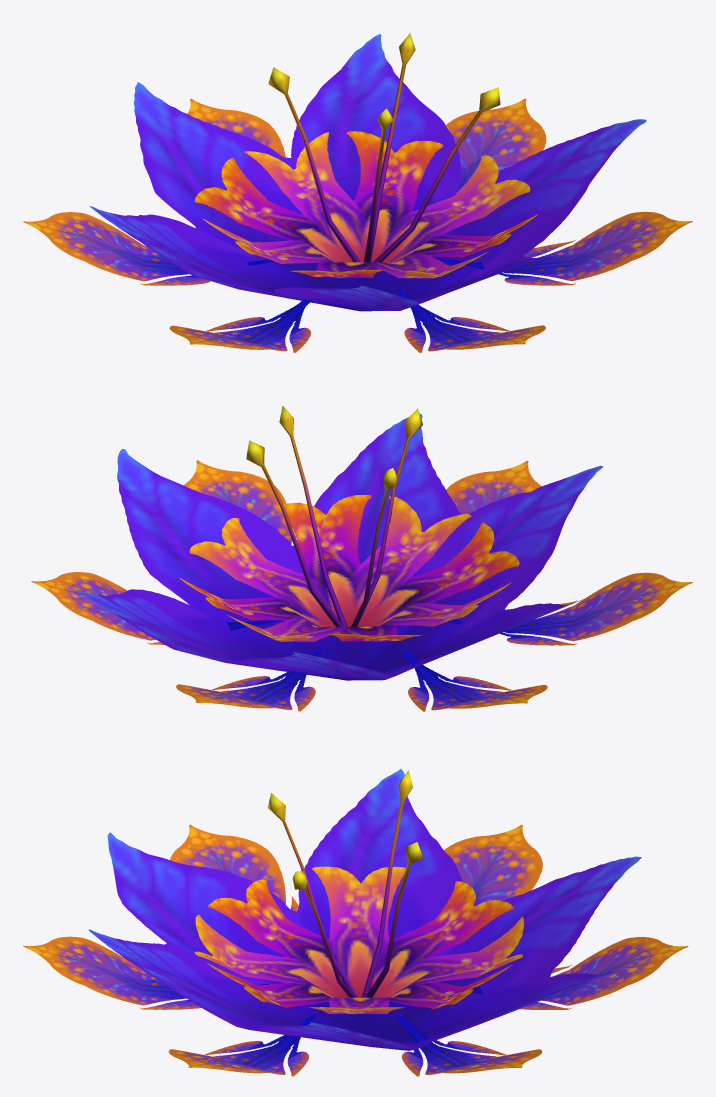
The model's file is Blue_Bush_04b.FBX.
The picture shows the model from 3 angles, top to bottom: view 1: azimuth 30°, elevation 25°; view 2: azimuth 150°, elevation 25°; view 3: azimuth 270°, elevation 25°; orthographic projection.
Visible parts, largest first — view 1: Blue_Bush_04b; view 2: Blue_Bush_04b; view 3: Blue_Bush_04b.
Boxes of the visible parts, <box> form: Blue_Bush_04b: <box>23,33,692,352</box>; Blue_Bush_04b: <box>31,406,692,711</box>; Blue_Bush_04b: <box>23,768,688,1076</box>.
Bounding box in the file's own units: 143 × 57.09 × 146.
